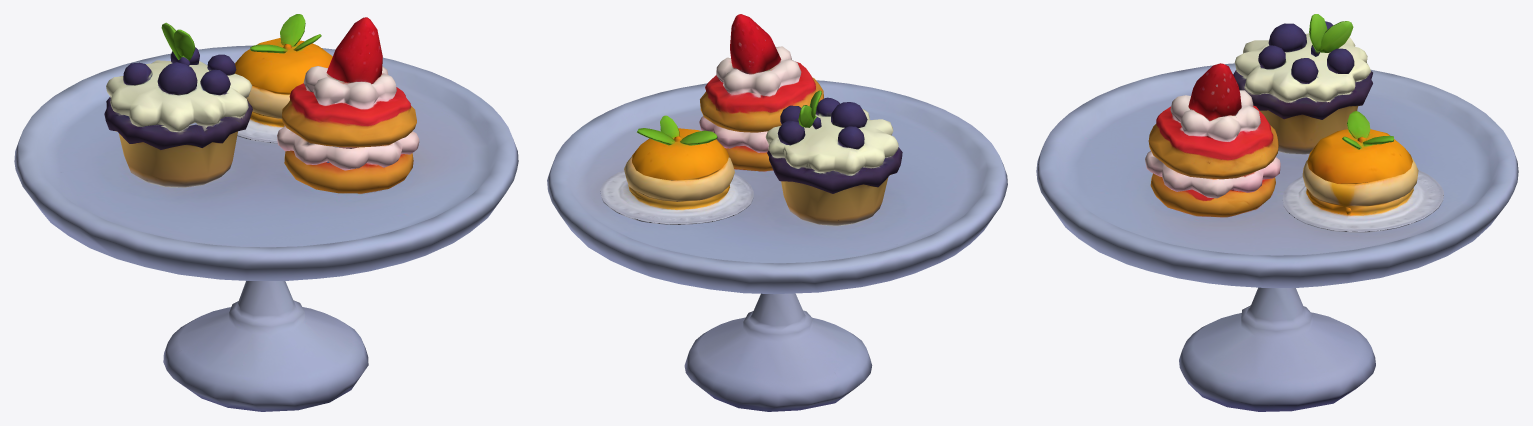
The model's file is cake_tray.glb.
3 views of the same model, side by side, from view 1: azimuth 30°, elevation 25°; view 2: azimuth 150°, elevation 25°; view 3: azimuth 270°, elevation 25° (orthographic). The views are drawn at different scales.
Visible parts, largest first — view 1: tripo_node_2f8c5c5f-9262-4370-b1d9-3e14dbc140bf; view 2: tripo_node_2f8c5c5f-9262-4370-b1d9-3e14dbc140bf; view 3: tripo_node_2f8c5c5f-9262-4370-b1d9-3e14dbc140bf.
Boxes of the visible parts, <box> form: tripo_node_2f8c5c5f-9262-4370-b1d9-3e14dbc140bf: <box>14,14,518,411</box>; tripo_node_2f8c5c5f-9262-4370-b1d9-3e14dbc140bf: <box>547,14,1007,411</box>; tripo_node_2f8c5c5f-9262-4370-b1d9-3e14dbc140bf: <box>1036,14,1518,411</box>.
Bounding box in the file's own units: 0.998 × 0.7871 × 0.998.
1 material, 1 textured.
